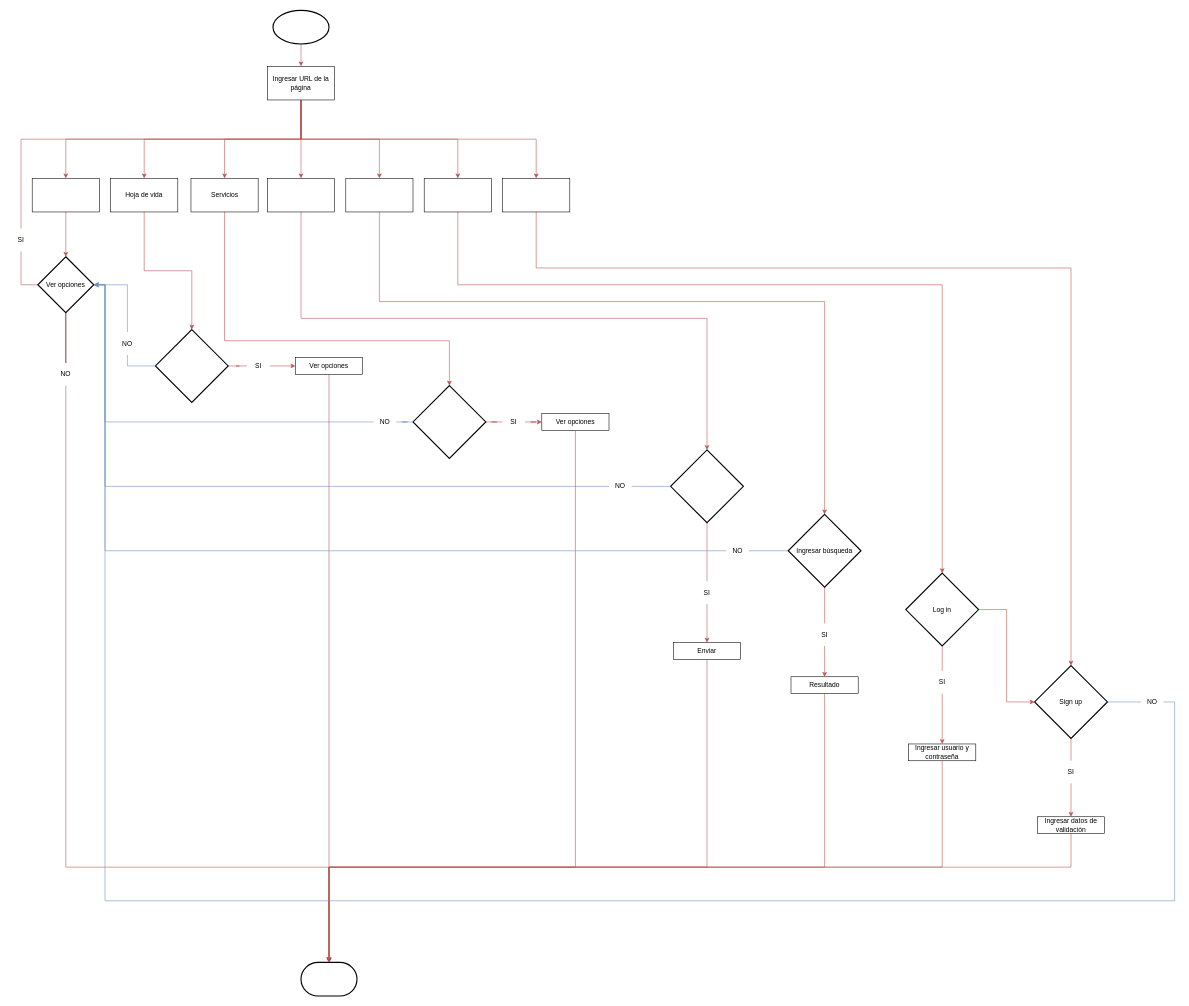
This 1189x1006 diagram has some shape labels left out. Each missing label, with the centre of its shape:
Buscar: point (379, 195)
Comenzar: point (300, 27)
Contacto: point (301, 195)
Diligenciar datos de contacto: point (707, 486)
Explorar hoja de vida: point (191, 366)
Explorar servicios: point (449, 422)
Iniciar sesión: point (457, 195)
Inicio: point (65, 195)
Registrarse: point (536, 195)
Terminar: point (328, 979)
